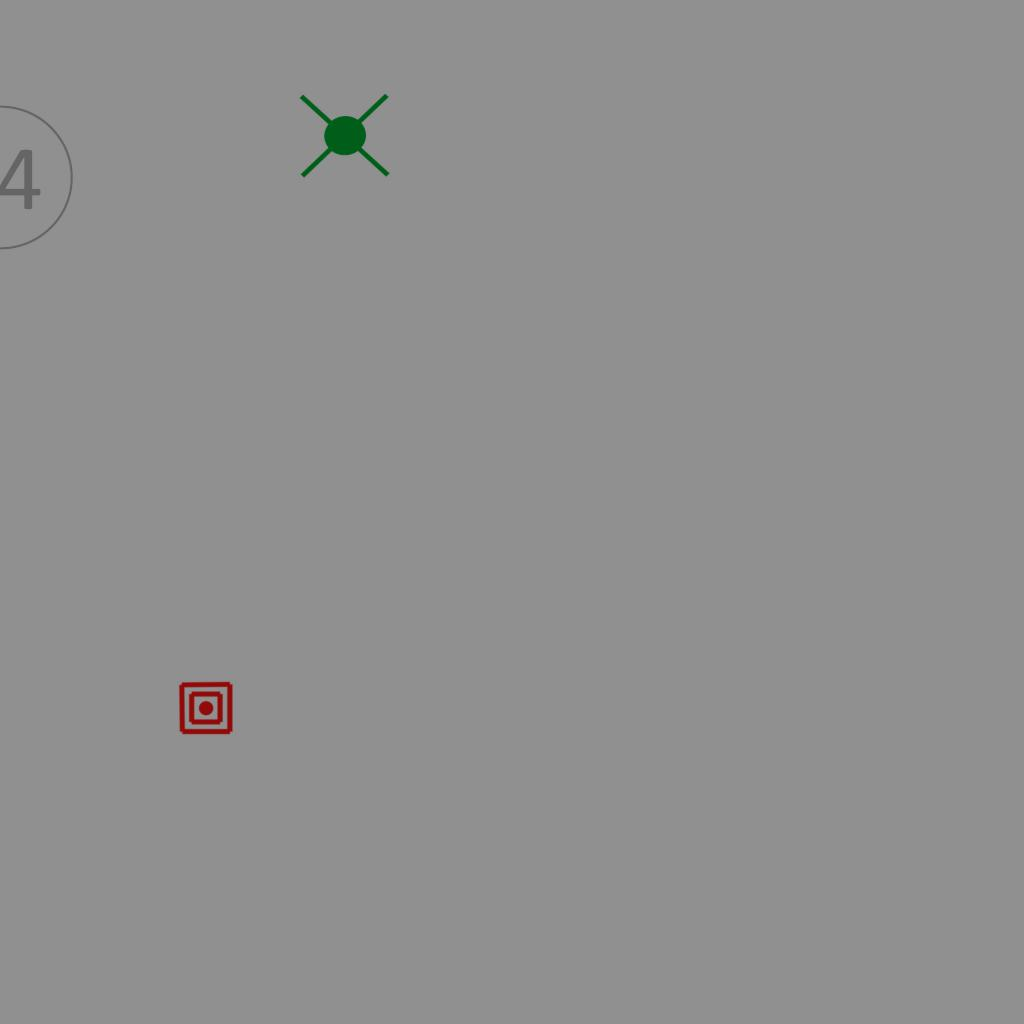NAM-Nichtautomatischer_Melder: (178, 680, 234, 736)
Notlichtbaustein_in_Allgemeinbeleuchtug_engebaut_Einbau_(1UG_und_2UG_Aufbauvaria: (295, 83, 395, 186)
